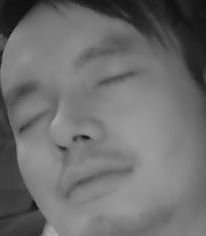blink: (94, 64, 134, 91), (18, 106, 52, 132)
mouth: (55, 156, 133, 201)
